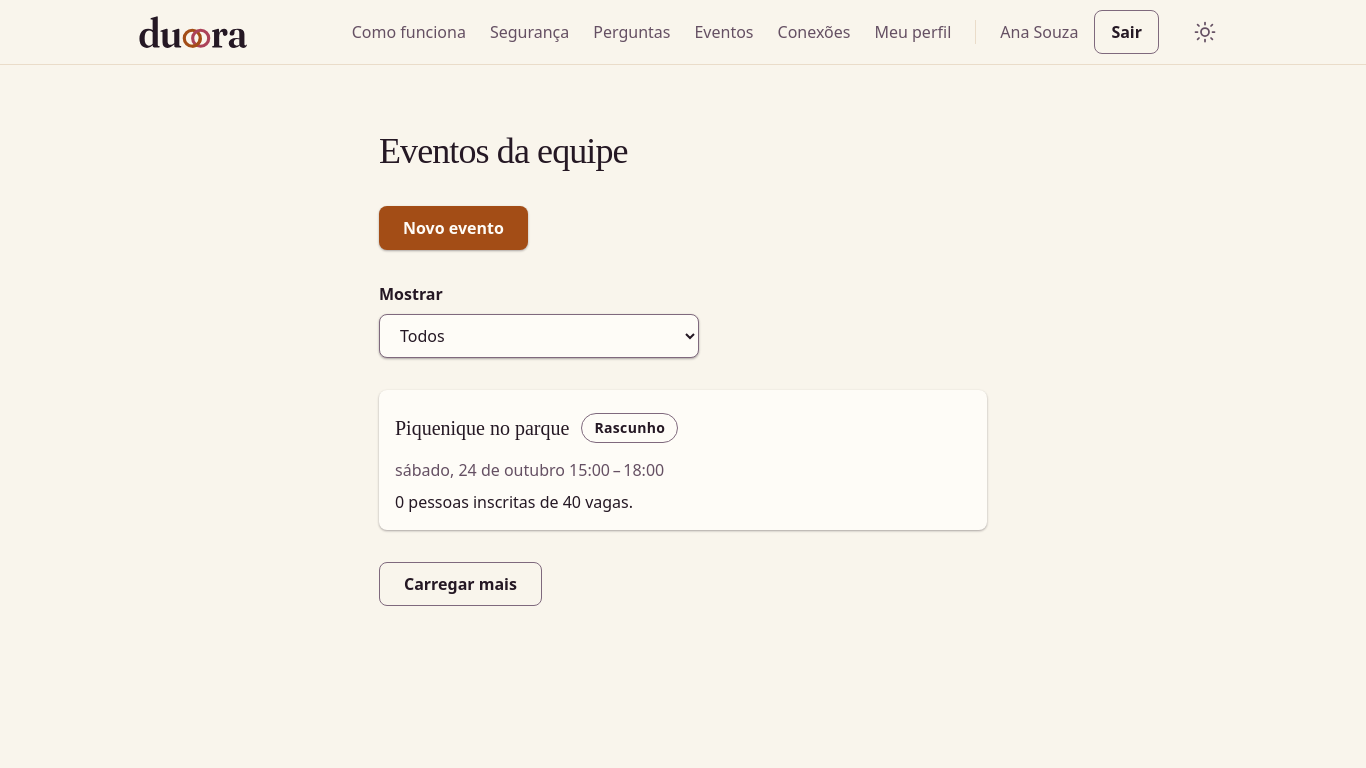
Scenario: admin events page › keeps the loaded events and offers to try again when the next page fails
This screenshot has width=1366, height=768.
Click the button "Carregar mais" at (460, 584), box [379, 562, 542, 606]
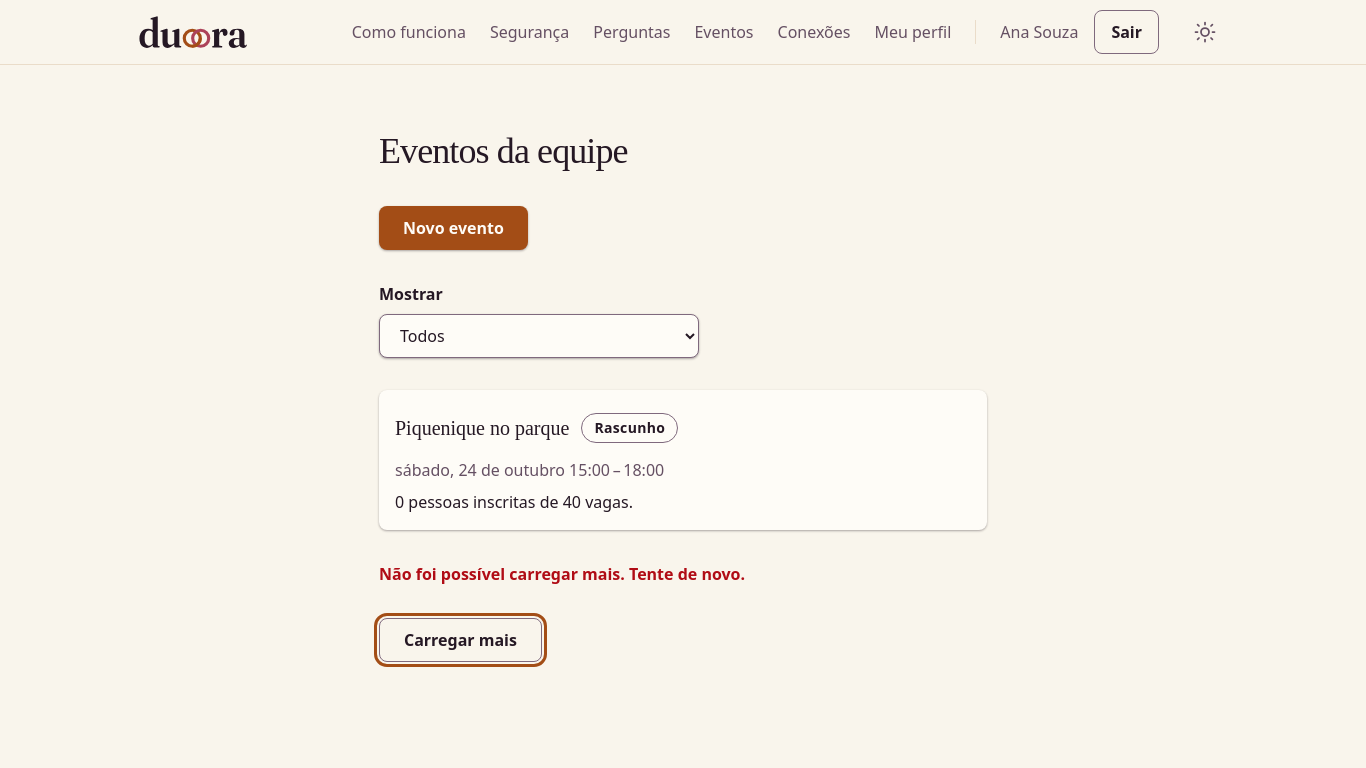
Expected: the link "Piquenique no parque" is shown, [395, 417, 569, 439]
Expected: the message reads "Não foi possível carregar mais. Tente de novo.", [379, 563, 745, 585]
Click the button "Carregar mais" at (460, 640), box [379, 618, 542, 662]
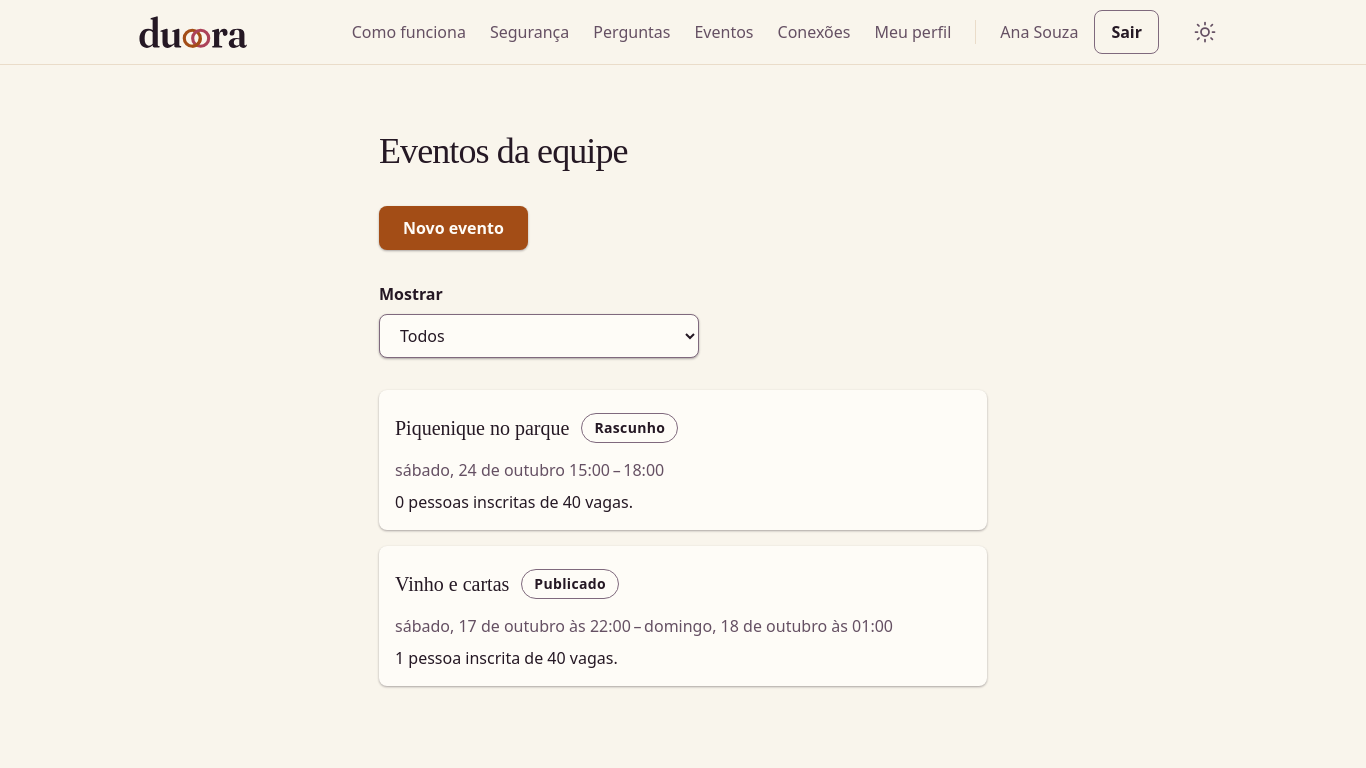
Expected: the link "Vinho e cartas" is shown, [395, 573, 509, 595]
Expected: the message "Não foi possível carregar mais. Tente de novo." is gone
